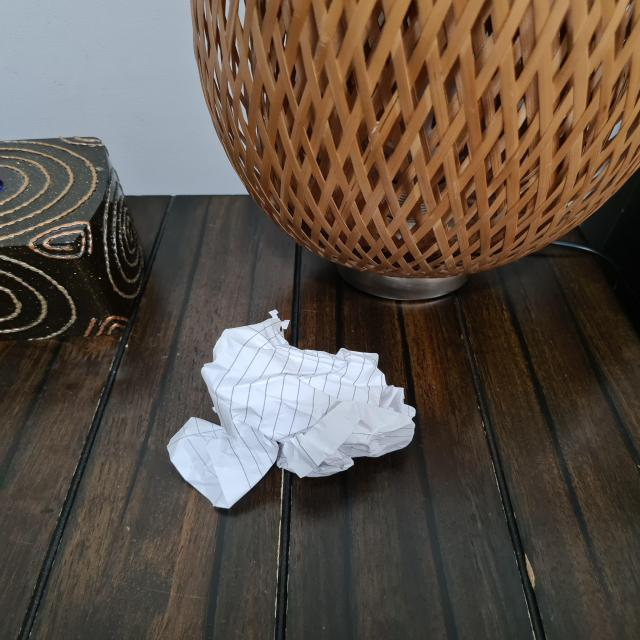kertas: (165, 312, 412, 511)
